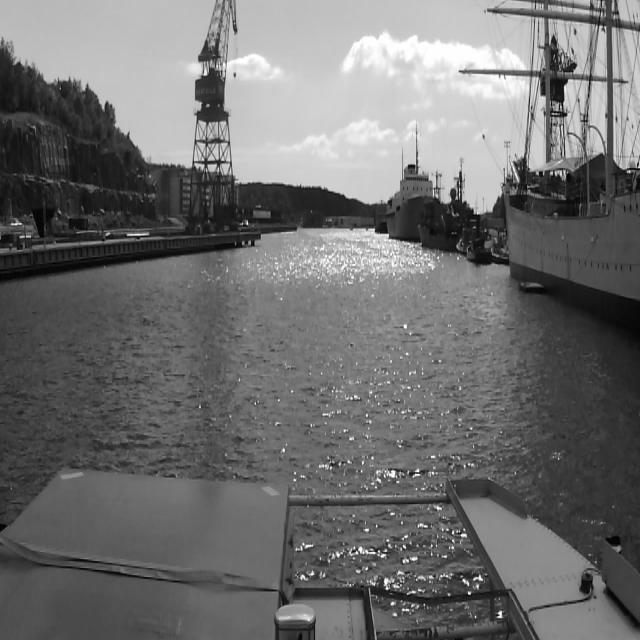ship: (461, 0, 640, 332), (387, 123, 435, 241), (415, 170, 457, 252), (374, 199, 388, 235)
